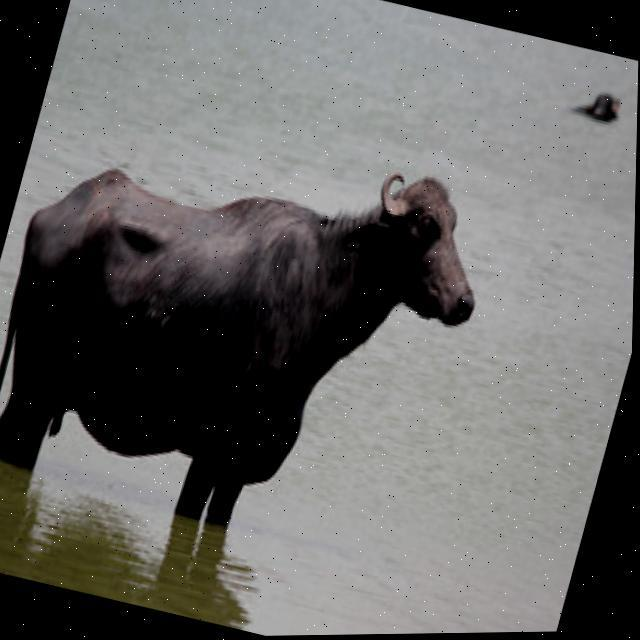Buffalo: (0, 74, 510, 582)
